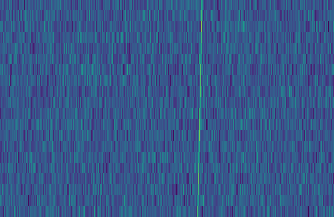signal: (193, 0, 206, 217)
